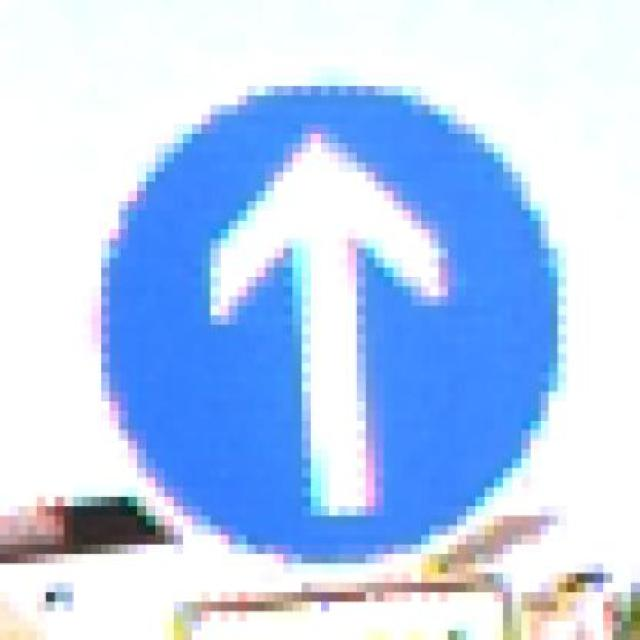Straight Ahead Only: (55, 76, 576, 564)
